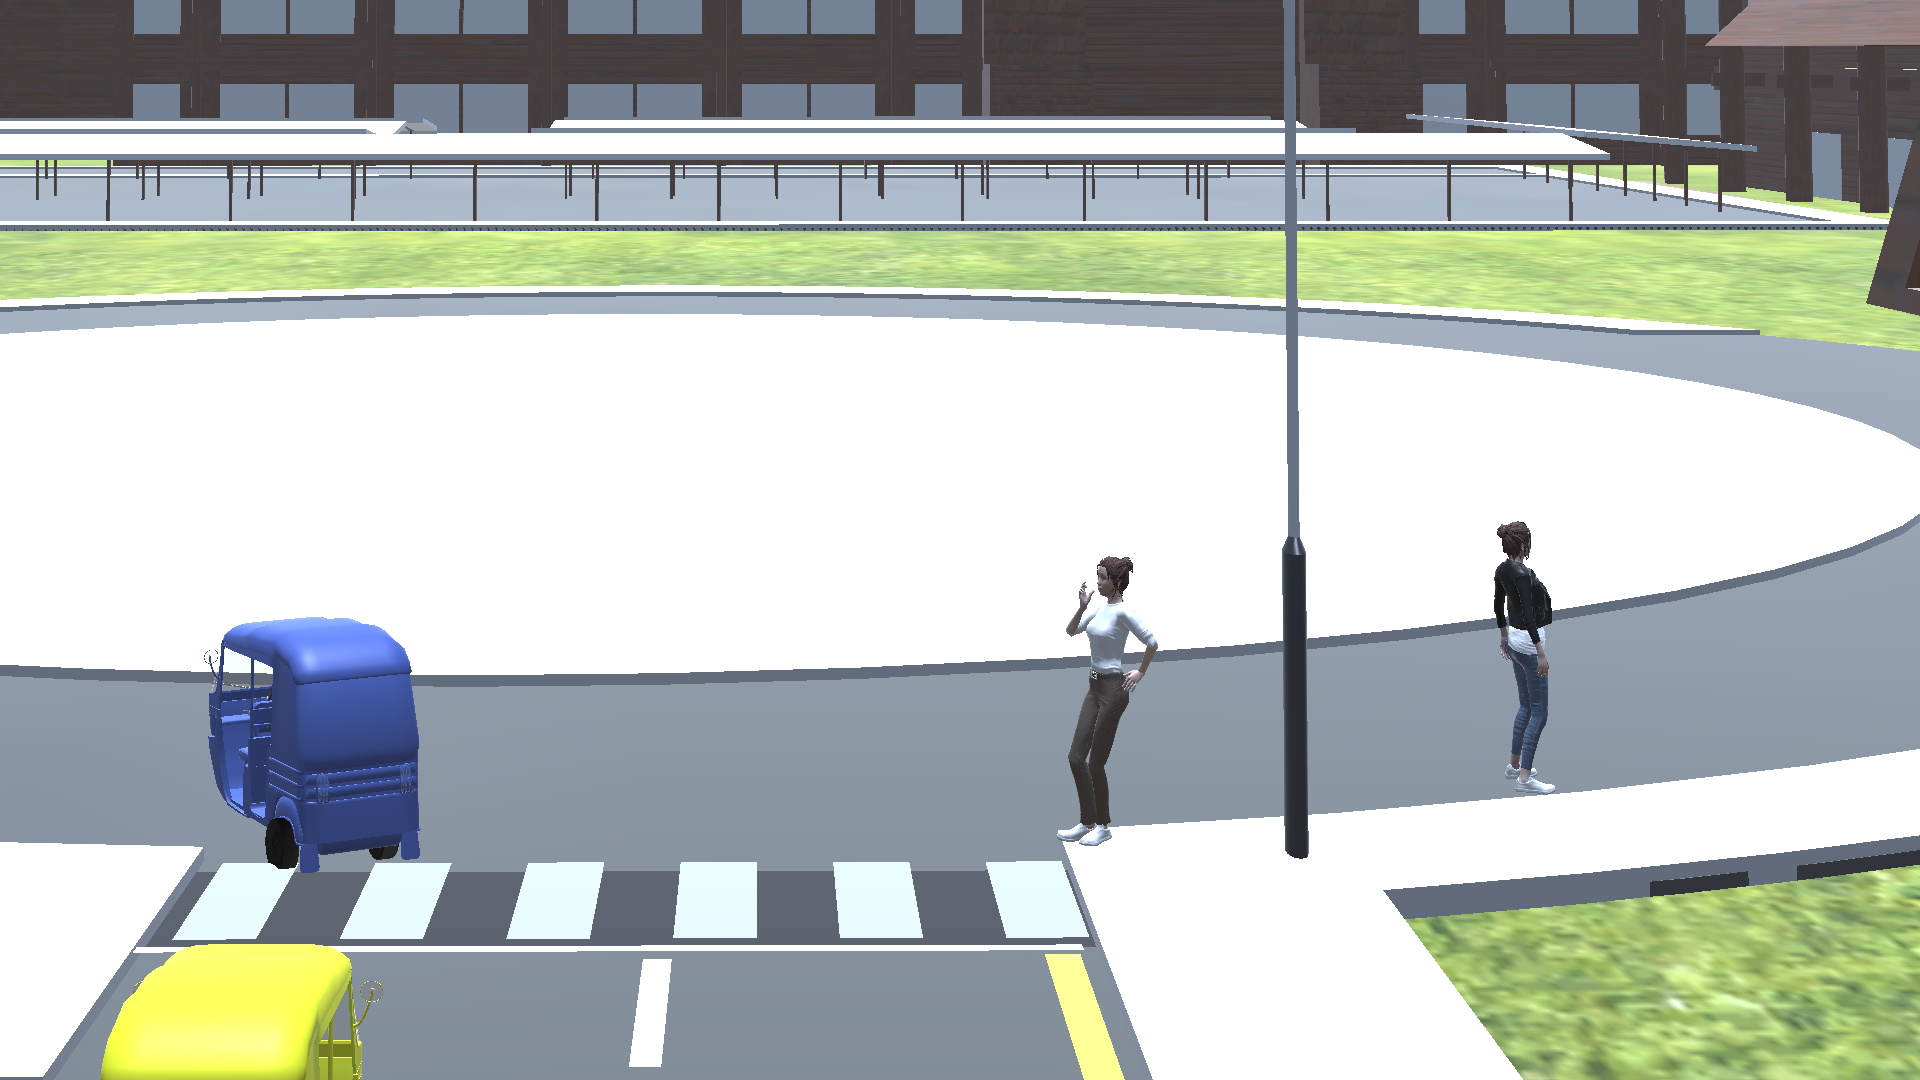pedestrian: (1059, 543, 1155, 851), (1486, 510, 1570, 789)
